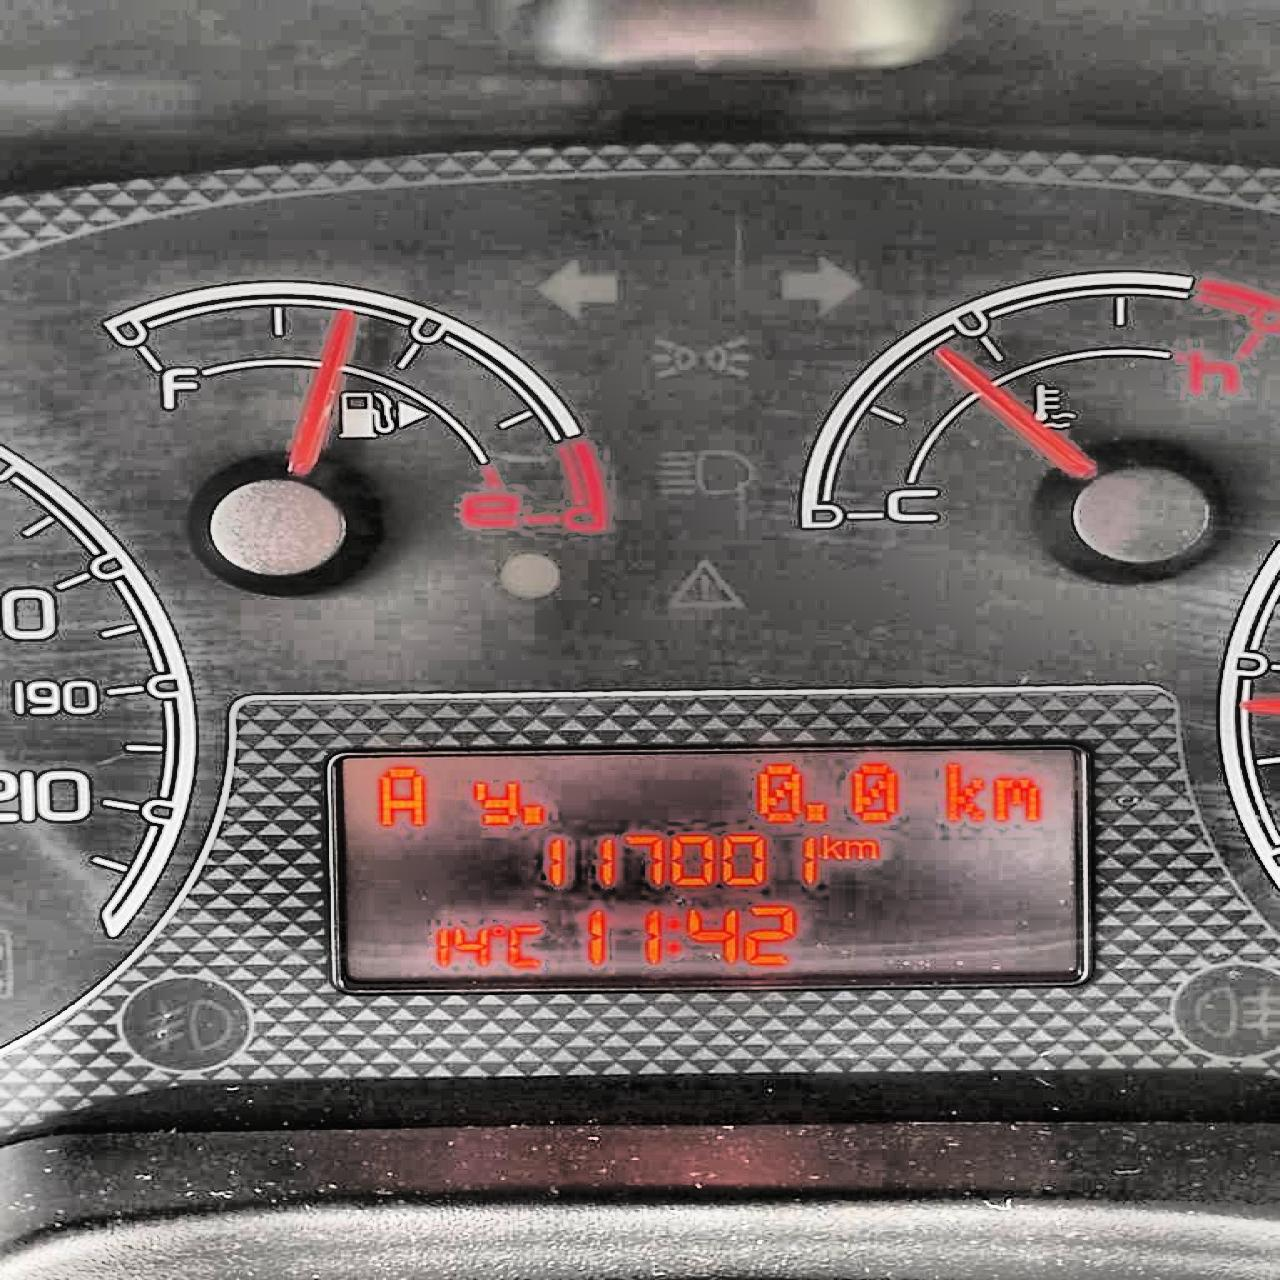-: (519, 803, 545, 826), (804, 798, 828, 824)
0: (749, 758, 802, 824), (846, 760, 899, 825), (667, 830, 717, 888), (719, 830, 765, 886)
1: (574, 906, 608, 965), (631, 906, 662, 965), (539, 833, 568, 888), (789, 832, 819, 885), (588, 832, 618, 886), (430, 924, 451, 968)
2: (742, 901, 797, 967)
4: (681, 905, 738, 964), (452, 924, 490, 966)
7: (621, 831, 666, 888)
X: (373, 763, 429, 828), (941, 757, 986, 823), (989, 774, 1043, 822), (468, 777, 518, 826), (506, 921, 543, 967), (842, 837, 879, 862), (818, 830, 843, 862), (663, 913, 680, 958)
odometer: (318, 735, 1102, 1002)
